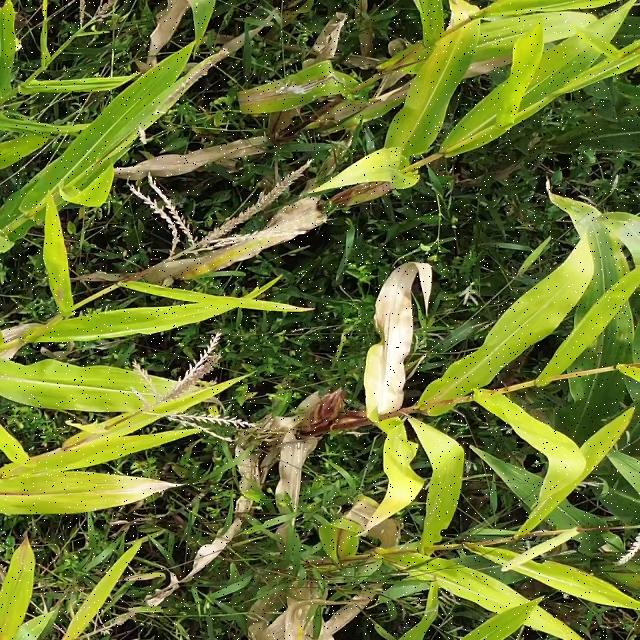northern-leaf-blight: (364, 37, 479, 168), (330, 280, 427, 418), (229, 55, 348, 126)
